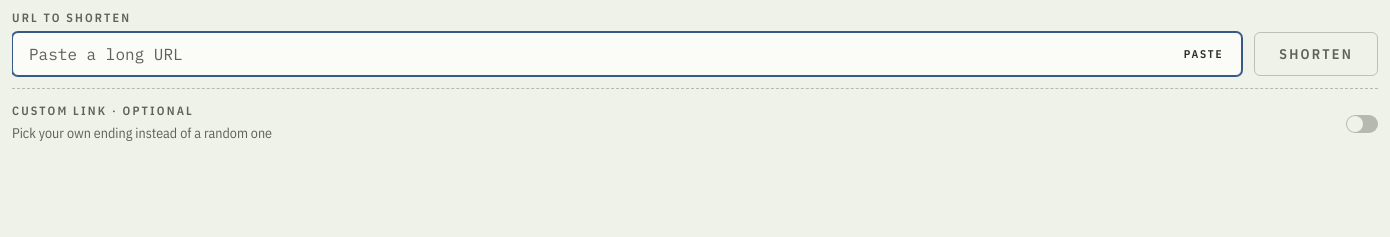
UrlForm › custom link › asks for a slug when the switch is on and the field is empty
Type "https://example.com" into the field labelled "URL to shorten" at (627, 54), box [12, 32, 1242, 76]
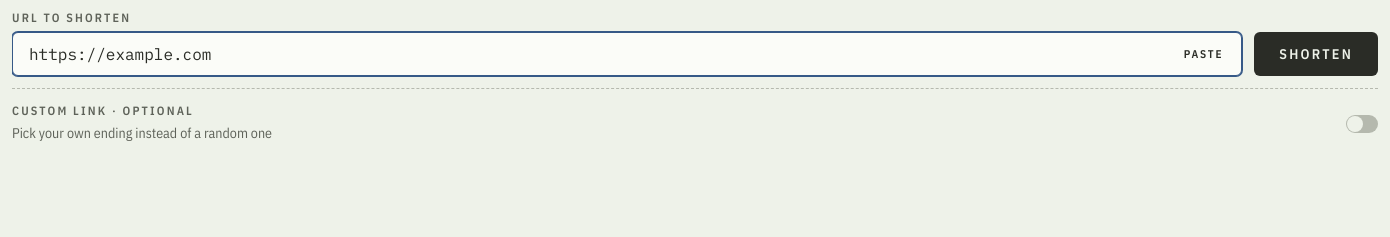
Click the switch named "Use a custom link" at (1362, 124), box [1346, 115, 1378, 133]
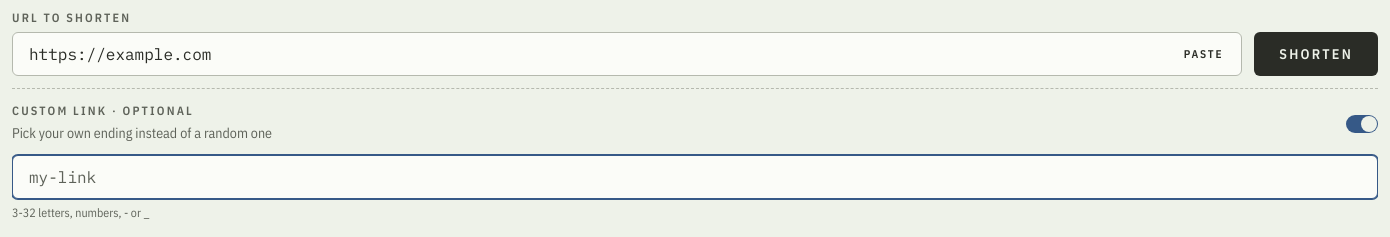
Click the button "Shorten" at (1316, 54), box [1254, 32, 1378, 76]
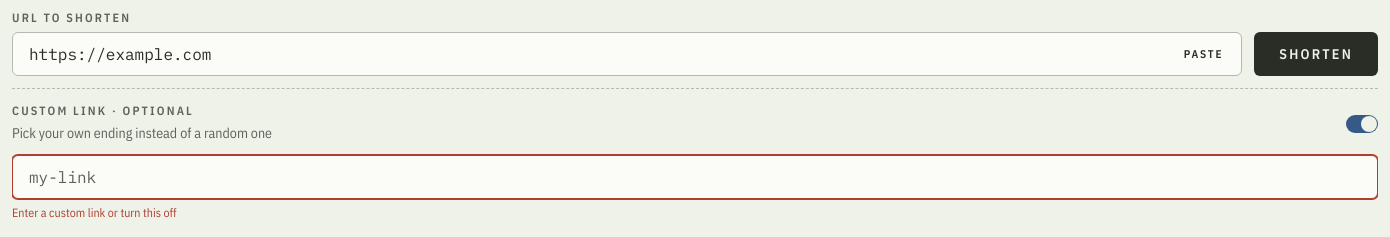
Expected: the text "Enter a custom link or turn this off" is shown, [12, 205, 177, 220]
